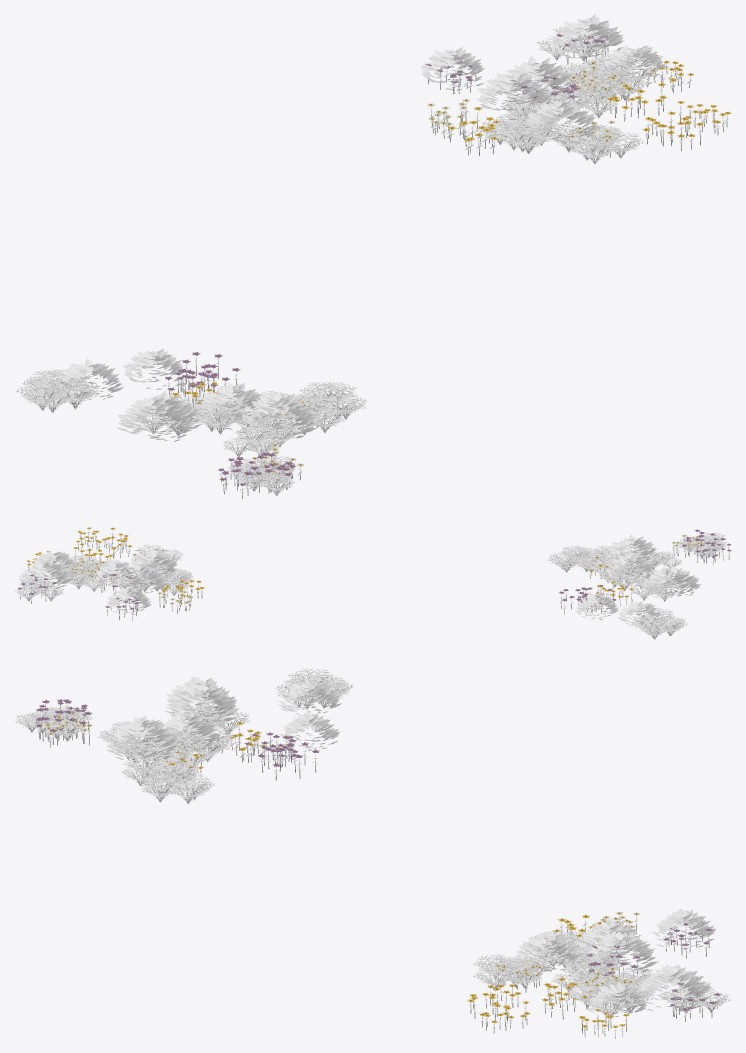
Rendered from SM_DF_Nature_1_2_Flora.fbx.
3 views of the same model, one above another, from view 1: azimuth 30°, elevation 25°; view 2: azimuth 150°, elevation 25°; view 3: azimuth 270°, elevation 25° (orthographic). The views are drawn at different scales.
Parts seen in each view (by area): view 1: SM_DF_Nature_1_2_Flora; view 2: SM_DF_Nature_1_2_Flora; view 3: SM_DF_Nature_1_2_Flora.
Part boxes in pixels (bbox=[...]): SM_DF_Nature_1_2_Flora: bbox=[16, 14, 731, 498]; SM_DF_Nature_1_2_Flora: bbox=[15, 527, 731, 639]; SM_DF_Nature_1_2_Flora: bbox=[15, 668, 731, 1038].
Size of the model in its own units: 2526 by 2038 by 221.
